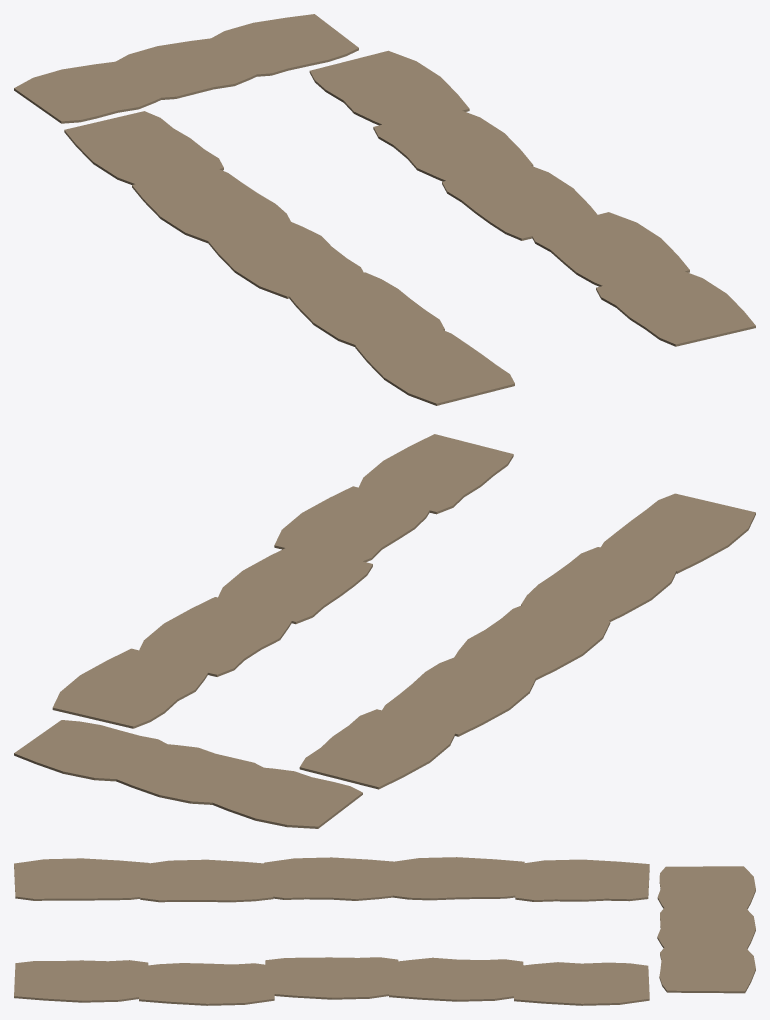
File: waterfront_foundations.glb
3 views of the same model, one above another, from view 1: azimuth 30°, elevation 25°; view 2: azimuth 150°, elevation 25°; view 3: azimuth 270°, elevation 25° (orthographic). The views are drawn at different scales.
Visible parts, largest first — view 1: EXPORT_ENV_West_5_Foundation, EXPORT_ENV_West_3_Foundation, EXPORT_ENV_East_2_Foundation, EXPORT_ENV_East_5_Foundation, EXPORT_ENV_East_1_Foundation, EXPORT_ENV_West_2_Foundation, EXPORT_ENV_East_3_Foundation, EXPORT_ENV_East_4_Foundation, EXPORT_ENV_West_1_Foundation, EXPORT_ENV_West_4_Foundation, EXPORT_ENV_Rear_3_Foundation, EXPORT_ENV_Rear_2_Foundation (+1 smaller); view 2: EXPORT_ENV_West_2_Foundation, EXPORT_ENV_East_1_Foundation, EXPORT_ENV_East_5_Foundation, EXPORT_ENV_West_5_Foundation, EXPORT_ENV_East_2_Foundation, EXPORT_ENV_East_4_Foundation, EXPORT_ENV_West_1_Foundation, EXPORT_ENV_East_3_Foundation, EXPORT_ENV_West_3_Foundation, EXPORT_ENV_West_4_Foundation, EXPORT_ENV_Rear_3_Foundation, EXPORT_ENV_Rear_2_Foundation (+1 smaller); view 3: EXPORT_ENV_East_1_Foundation, EXPORT_ENV_West_4_Foundation, EXPORT_ENV_East_5_Foundation, EXPORT_ENV_West_5_Foundation, EXPORT_ENV_West_2_Foundation, EXPORT_ENV_East_2_Foundation, EXPORT_ENV_East_4_Foundation, EXPORT_ENV_West_1_Foundation, EXPORT_ENV_West_3_Foundation, EXPORT_ENV_East_3_Foundation, EXPORT_ENV_Rear_3_Foundation, EXPORT_ENV_Rear_1_Foundation (+1 smaller).
Boxes of the visible parts, x1,y1,x2,y2 form: EXPORT_ENV_West_5_Foundation: (355,327,514,405); EXPORT_ENV_West_3_Foundation: (206,220,365,298); EXPORT_ENV_East_2_Foundation: (373,107,533,183); EXPORT_ENV_East_5_Foundation: (596,267,755,346); EXPORT_ENV_East_1_Foundation: (309,50,469,126); EXPORT_ENV_West_2_Foundation: (132,166,290,243); EXPORT_ENV_East_3_Foundation: (442,165,601,240); EXPORT_ENV_East_4_Foundation: (532,212,689,288); EXPORT_ENV_West_1_Foundation: (64,111,223,184); EXPORT_ENV_West_4_Foundation: (289,272,444,347); EXPORT_ENV_Rear_3_Foundation: (205,14,358,76); EXPORT_ENV_Rear_2_Foundation: (110,37,262,99); EXPORT_ENV_West_2_Foundation: (379,656,536,736); EXPORT_ENV_East_1_Foundation: (52,648,208,728); EXPORT_ENV_East_5_Foundation: (356,434,513,514); EXPORT_ENV_West_5_Foundation: (599,493,755,573); EXPORT_ENV_East_2_Foundation: (136,597,291,676); EXPORT_ENV_East_4_Foundation: (274,486,431,563); EXPORT_ENV_West_1_Foundation: (299,709,454,789); EXPORT_ENV_East_3_Foundation: (218,544,372,624); EXPORT_ENV_West_3_Foundation: (454,602,610,680); EXPORT_ENV_West_4_Foundation: (521,547,678,621); EXPORT_ENV_Rear_3_Foundation: (14,720,167,781); EXPORT_ENV_Rear_2_Foundation: (111,743,266,804); EXPORT_ENV_East_1_Foundation: (514,962,649,1005); EXPORT_ENV_West_4_Foundation: (139,859,274,902); EXPORT_ENV_East_5_Foundation: (14,960,149,1002); EXPORT_ENV_West_5_Foundation: (14,858,149,900); EXPORT_ENV_West_2_Foundation: (389,857,524,900); EXPORT_ENV_East_2_Foundation: (389,957,524,1001); EXPORT_ENV_East_4_Foundation: (139,963,274,1005); EXPORT_ENV_West_1_Foundation: (514,859,649,901); EXPORT_ENV_West_3_Foundation: (264,857,399,900); EXPORT_ENV_East_3_Foundation: (264,957,399,999); EXPORT_ENV_Rear_3_Foundation: (659,945,755,993); EXPORT_ENV_Rear_1_Foundation: (657,866,755,911).
Size of what is drawn, in the model's own units: 481 by 3 by 1027.
